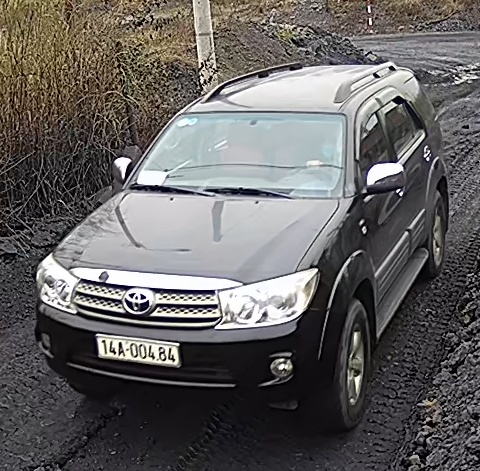vehicle plate: (93, 331, 187, 369)
